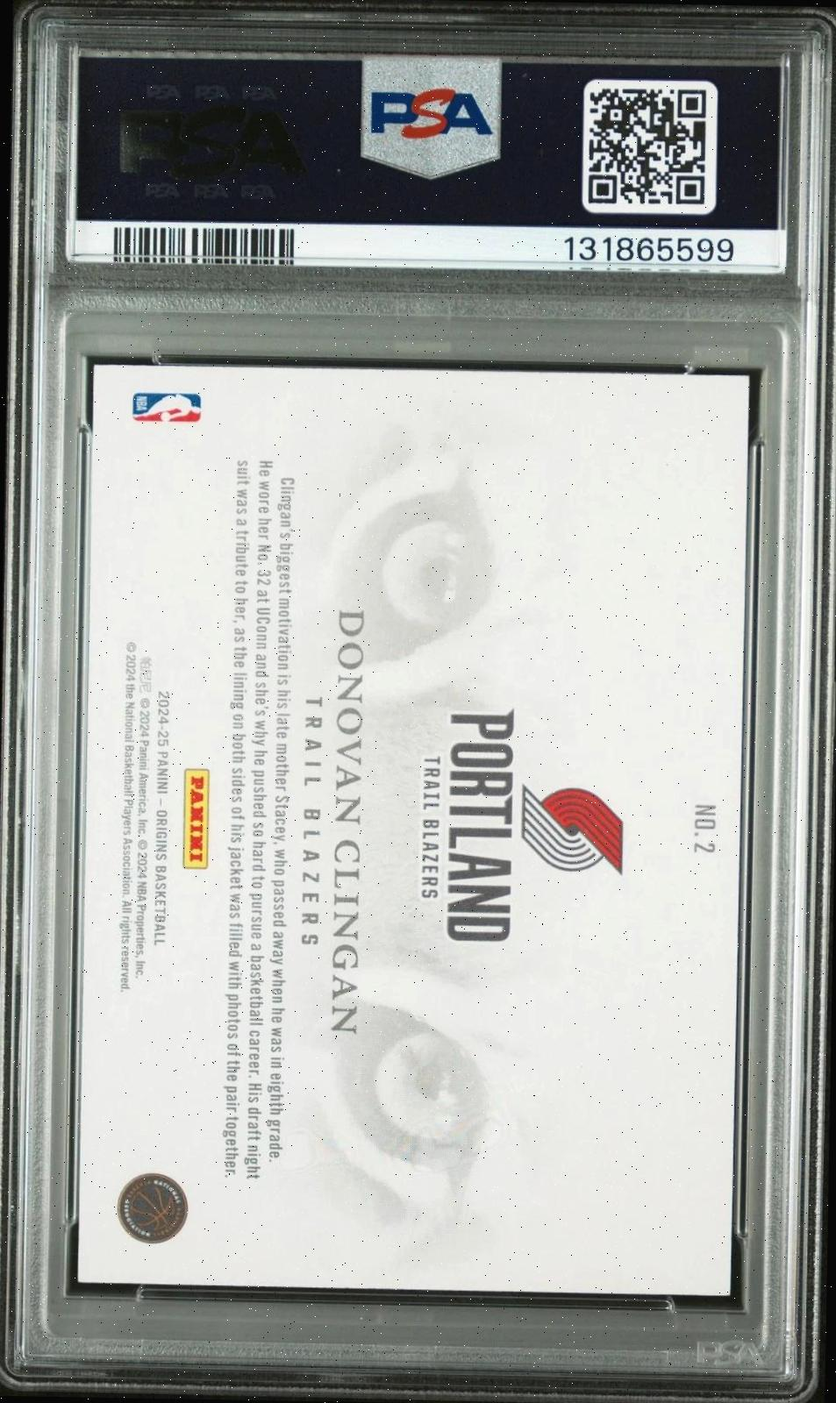card-2UtV: (76, 363, 750, 1296)
